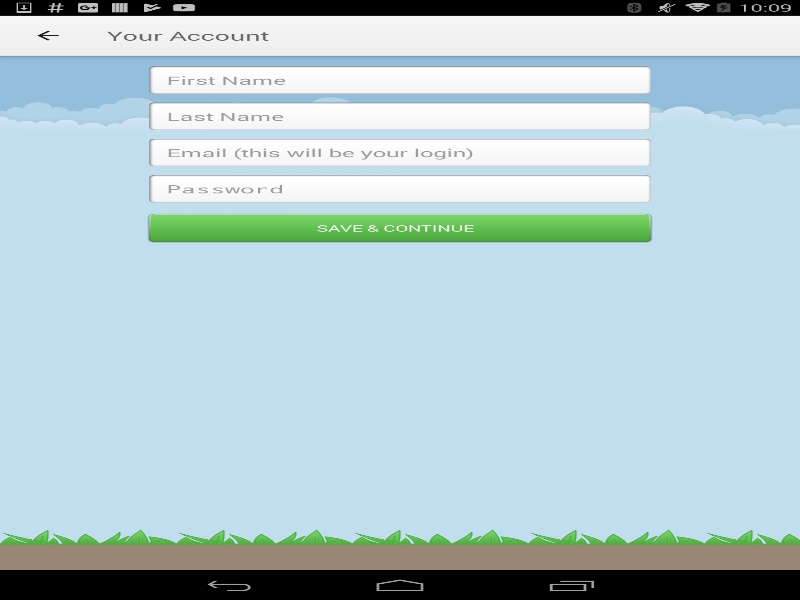Button: (146, 213, 653, 243), (10, 15, 85, 55)
Input: (146, 65, 653, 95), (146, 101, 653, 131), (146, 137, 653, 167), (146, 173, 653, 203)
